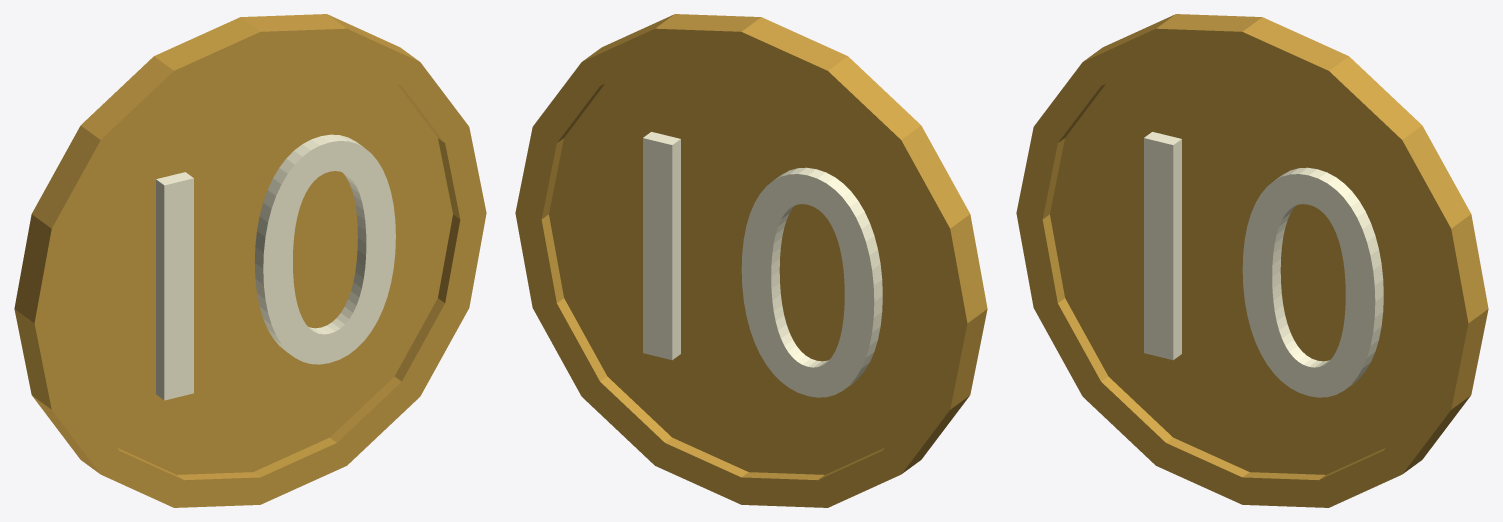
File: Coin10.dae
3 renders of one model, left to right at view 1: azimuth 30°, elevation 25°; view 2: azimuth 150°, elevation 25°; view 3: azimuth 330°, elevation 25°, orthographic.
Parts seen in each view (by area): view 1: Circle_011, Text_012; view 2: Circle_011, Text_000; view 3: Circle_011, Text_012.
Part boxes in pixels (box(x1,y1,x2,y2)): Circle_011: box(14, 14, 486, 507); Text_012: box(156, 134, 395, 400); Circle_011: box(515, 14, 987, 507); Text_000: box(643, 132, 882, 397); Circle_011: box(1016, 14, 1488, 507); Text_012: box(1144, 132, 1383, 397).
Bounding box in the file's own units: 0.4939 × 0.0429 × 0.4939.
